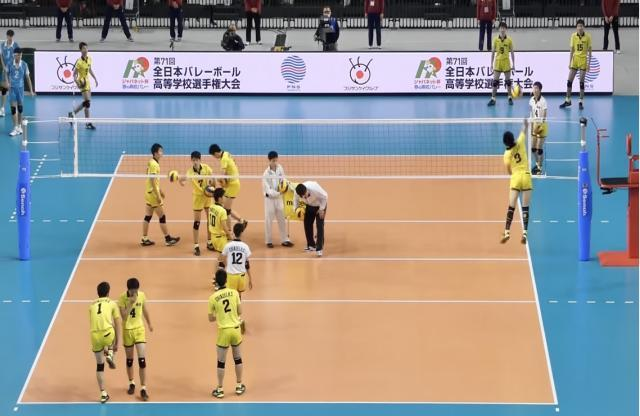spike: (486, 84, 534, 245)
